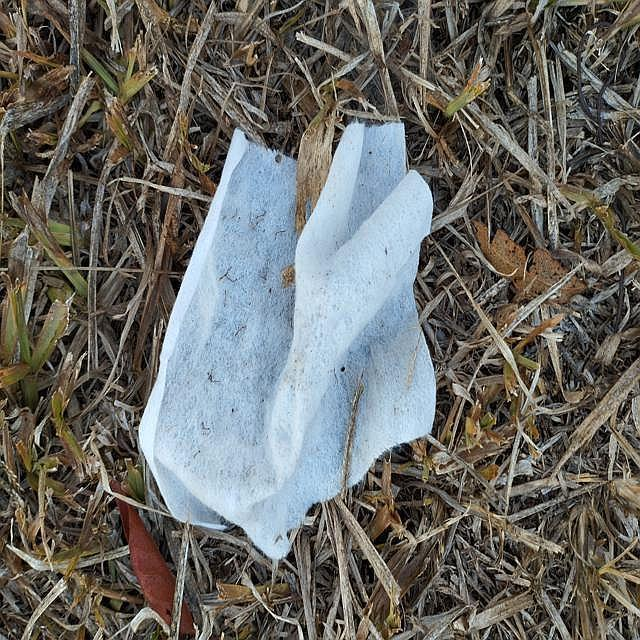Biodegradable: (143, 113, 437, 565)
